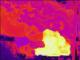Foc: (32, 28, 74, 57)
